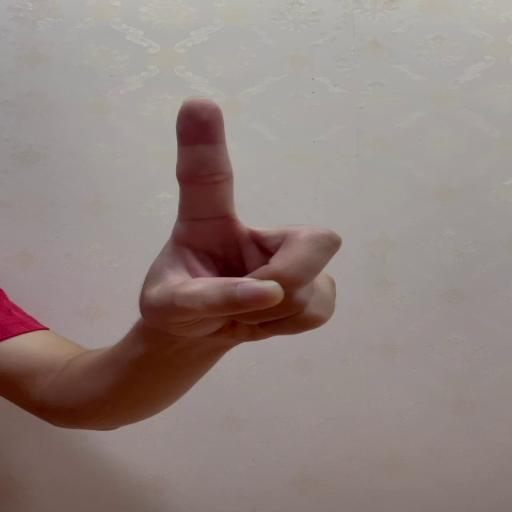point: (162, 95, 346, 341)
